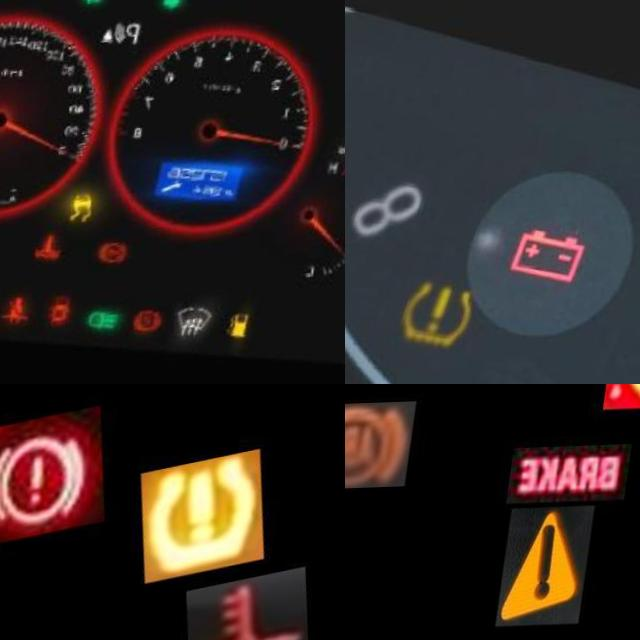Central Warning lamp: (514, 508, 610, 629)
Engine cooling system: (188, 568, 334, 640), (49, 235, 90, 272)
Low fuel level: (245, 314, 277, 346)
